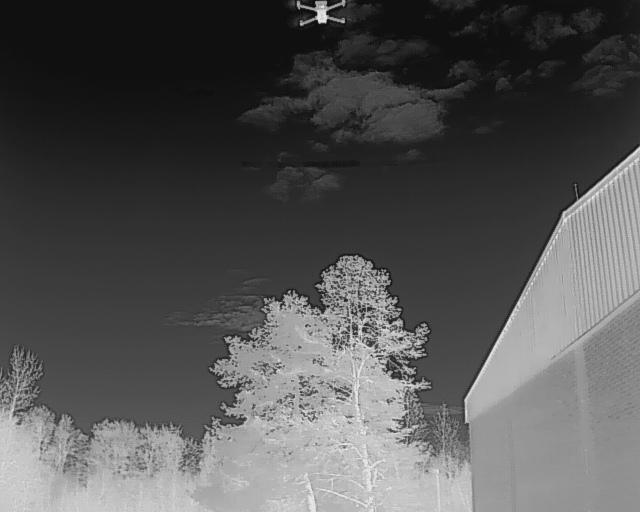drone: (284, 0, 361, 35)
